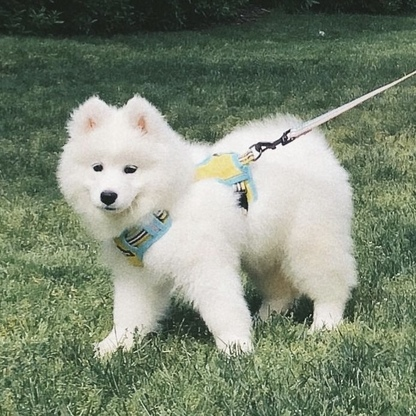samoyed: (52, 89, 363, 362)
